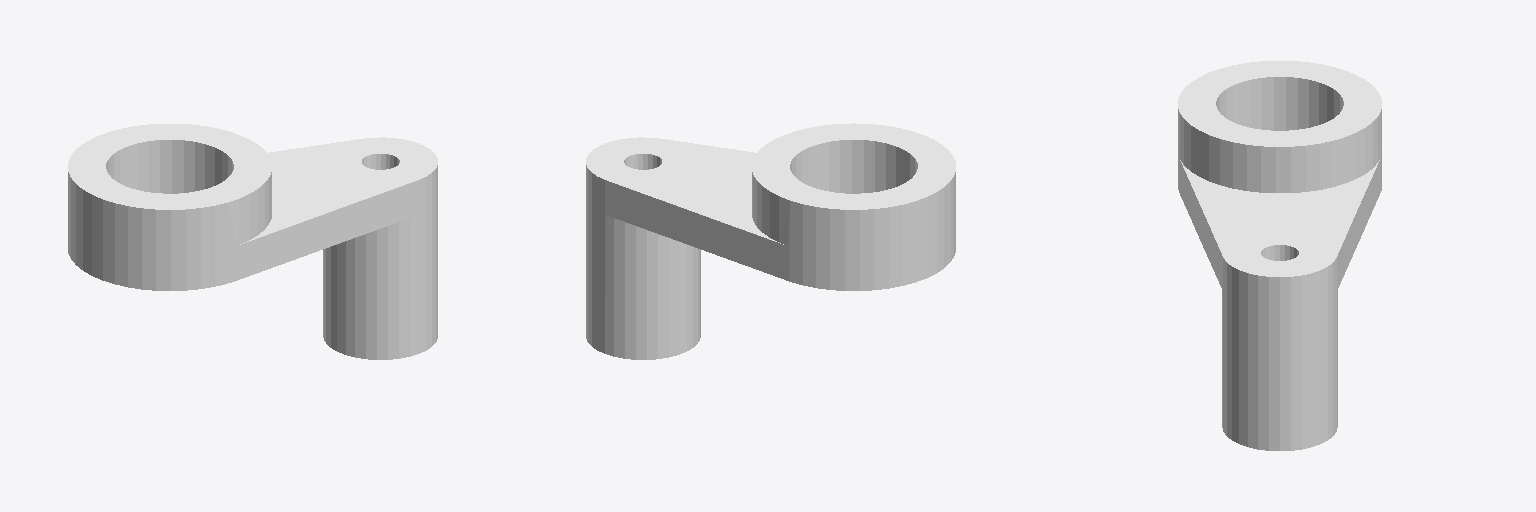
The model's file is seca_prob3.obj.
3 views of the same model, side by side, from view 1: azimuth 30°, elevation 25°; view 2: azimuth 150°, elevation 25°; view 3: azimuth 270°, elevation 25° (orthographic).
Parts seen in each view (by area): view 1: SecA_Prob3; view 2: SecA_Prob3; view 3: SecA_Prob3.
Boxes of the visible parts, box(x1,y1,x2,y2) form: SecA_Prob3: box(68, 124, 437, 359); SecA_Prob3: box(586, 123, 955, 359); SecA_Prob3: box(1178, 61, 1381, 450).
Bounding box in the file's own units: 0.063 × 0.038 × 0.032.